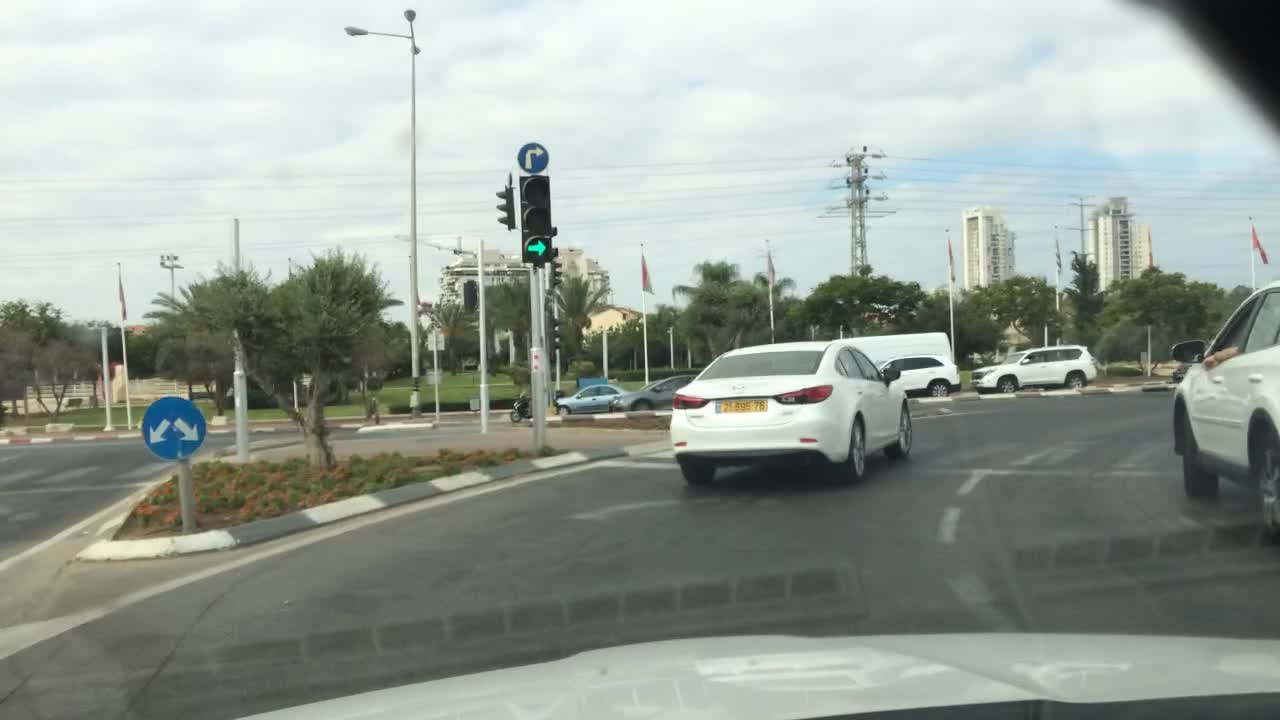car: (668, 337, 913, 491), (1169, 280, 1278, 538), (969, 343, 1100, 399), (873, 352, 960, 395), (626, 370, 699, 409), (558, 389, 627, 414)
motor: (508, 387, 550, 424)
rider: (522, 372, 537, 426)
traffic light: (519, 171, 552, 268), (496, 175, 515, 232), (548, 313, 562, 355), (463, 278, 477, 314), (550, 256, 562, 289), (550, 225, 558, 258)
traffic sign: (140, 396, 206, 461), (515, 139, 549, 178), (425, 328, 446, 352), (426, 368, 441, 383)
